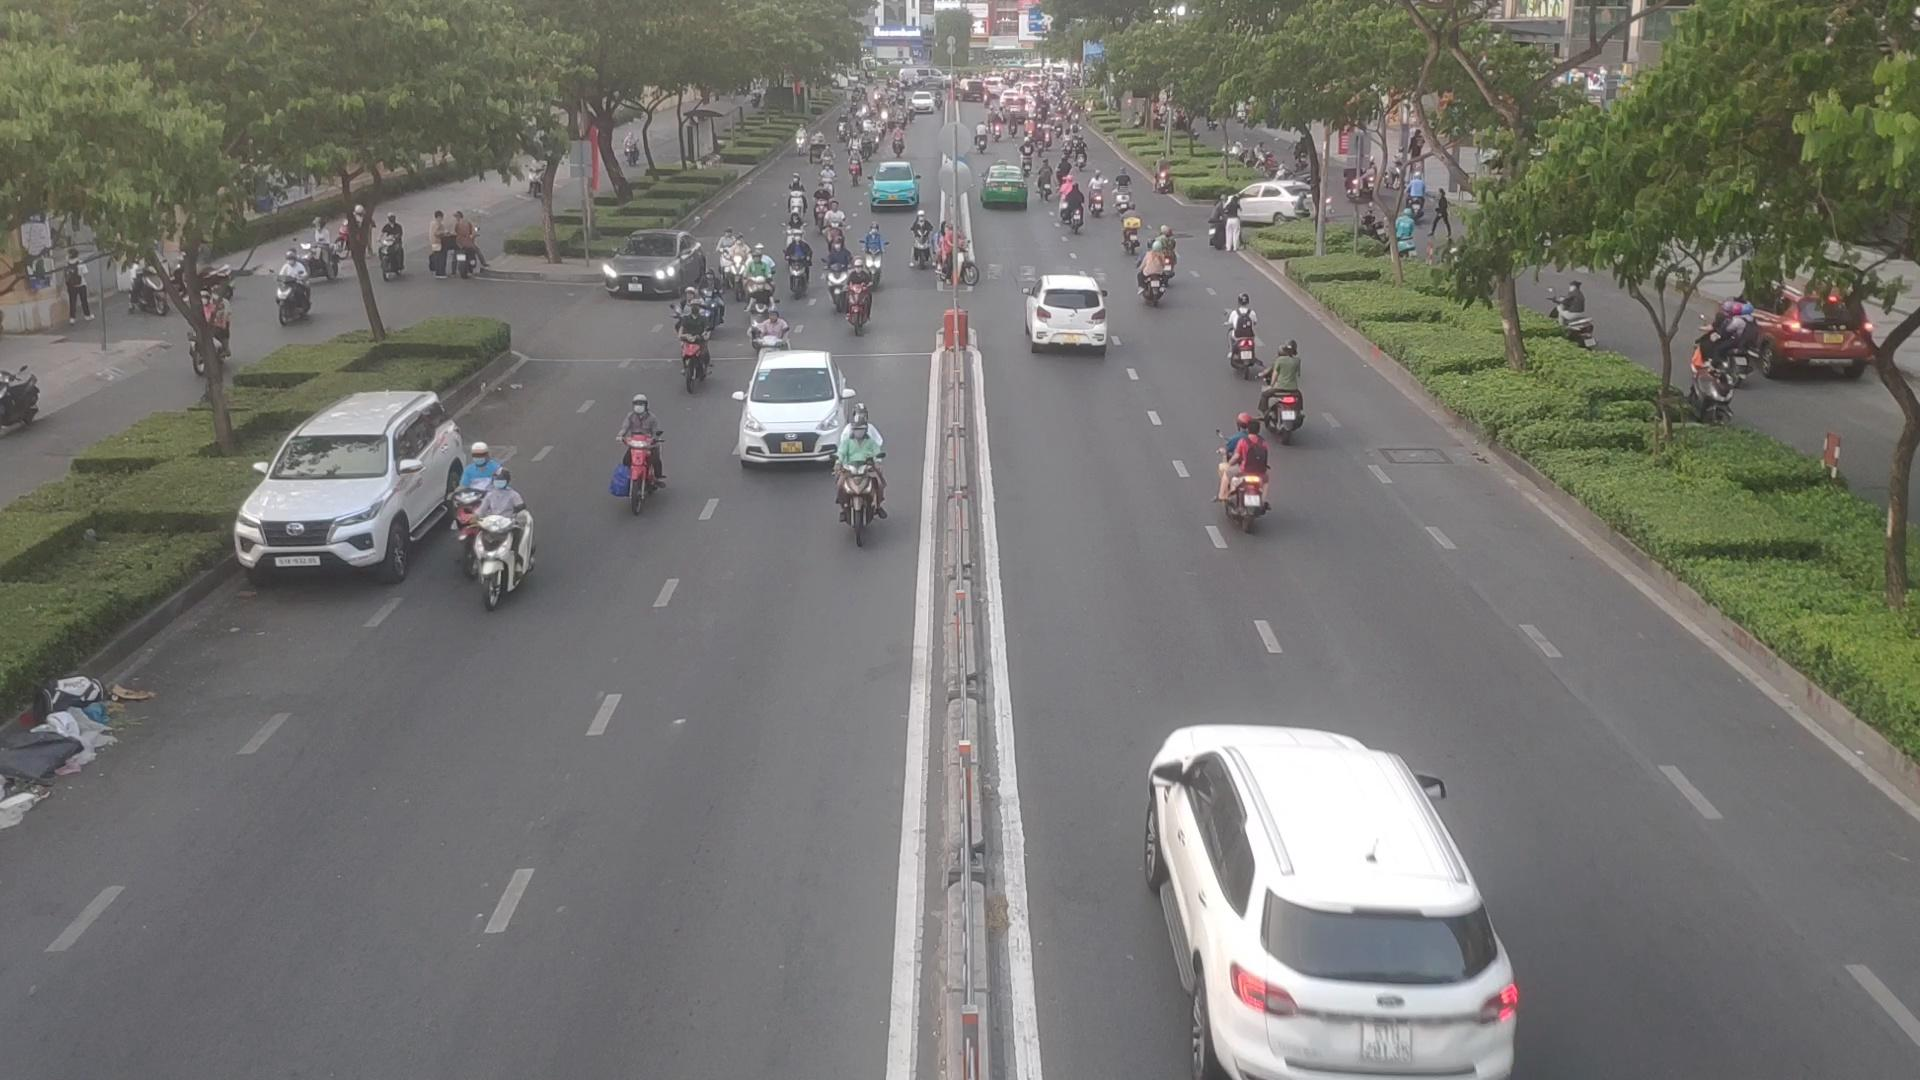car: (1149, 733, 1522, 1079), (231, 392, 480, 588), (731, 353, 851, 469), (1750, 295, 1879, 386), (601, 232, 711, 302), (1025, 274, 1114, 353), (1226, 185, 1307, 227), (866, 160, 920, 208)
motorbike: (454, 485, 535, 601), (832, 398, 894, 542), (613, 390, 673, 522), (1215, 413, 1274, 541), (1259, 339, 1309, 448), (1215, 305, 1265, 385), (749, 301, 795, 381), (845, 260, 878, 334), (779, 235, 816, 297), (676, 331, 716, 384), (824, 237, 851, 311), (1139, 251, 1168, 314), (696, 268, 724, 334), (861, 222, 889, 284), (1153, 225, 1182, 281), (727, 231, 749, 302), (1121, 202, 1143, 255), (782, 212, 807, 257), (715, 227, 735, 281), (814, 185, 829, 231), (787, 175, 804, 215)
